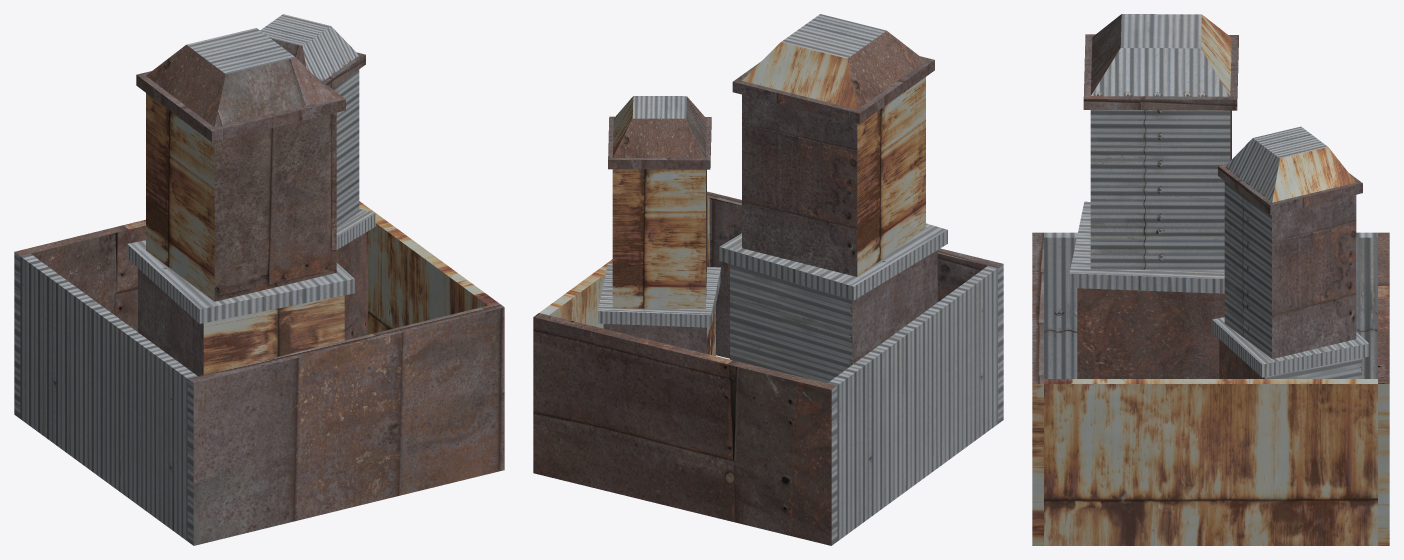
File: SettlementLevel2.fbx
3 views of the same model, side by side, from view 1: azimuth 30°, elevation 25°; view 2: azimuth 150°, elevation 25°; view 3: azimuth 270°, elevation 25° (orthographic). The views are drawn at different scales.
Visible parts, largest first — view 1: Level2Settlement; view 2: Level2Settlement; view 3: Level2Settlement.
Boxes of the visible parts, bbox=[...] form: Level2Settlement: bbox=[14, 14, 504, 545]; Level2Settlement: bbox=[533, 14, 1003, 545]; Level2Settlement: bbox=[1032, 14, 1389, 545].
Bounding box in the file's own units: 72 × 93.17 × 72.
8 materials, 8 textured.
